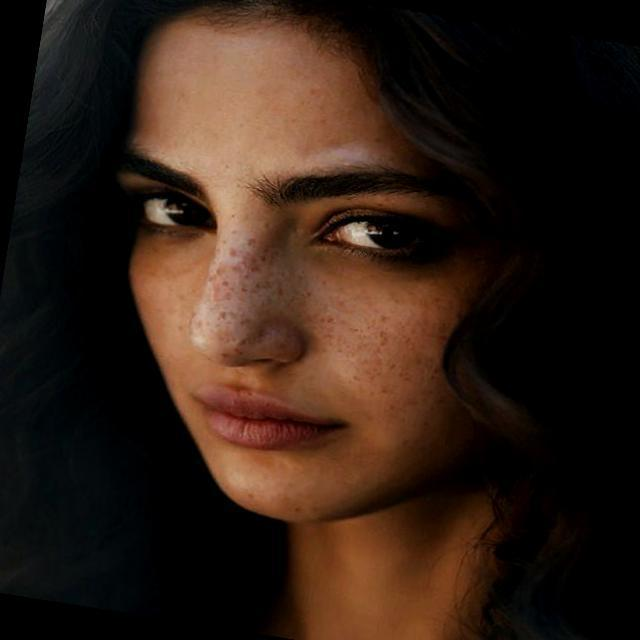freckle: (127, 227, 469, 411)
